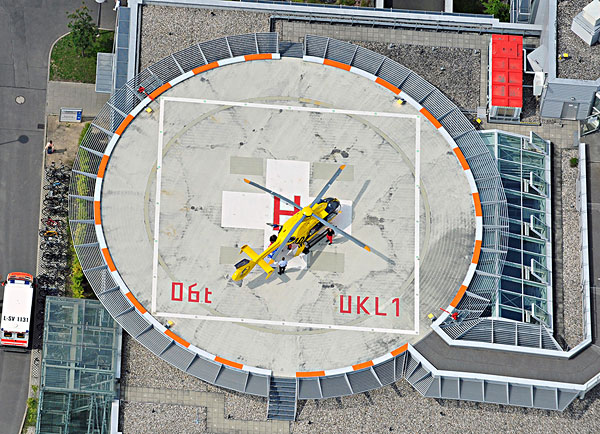H: (273, 195, 301, 231)
